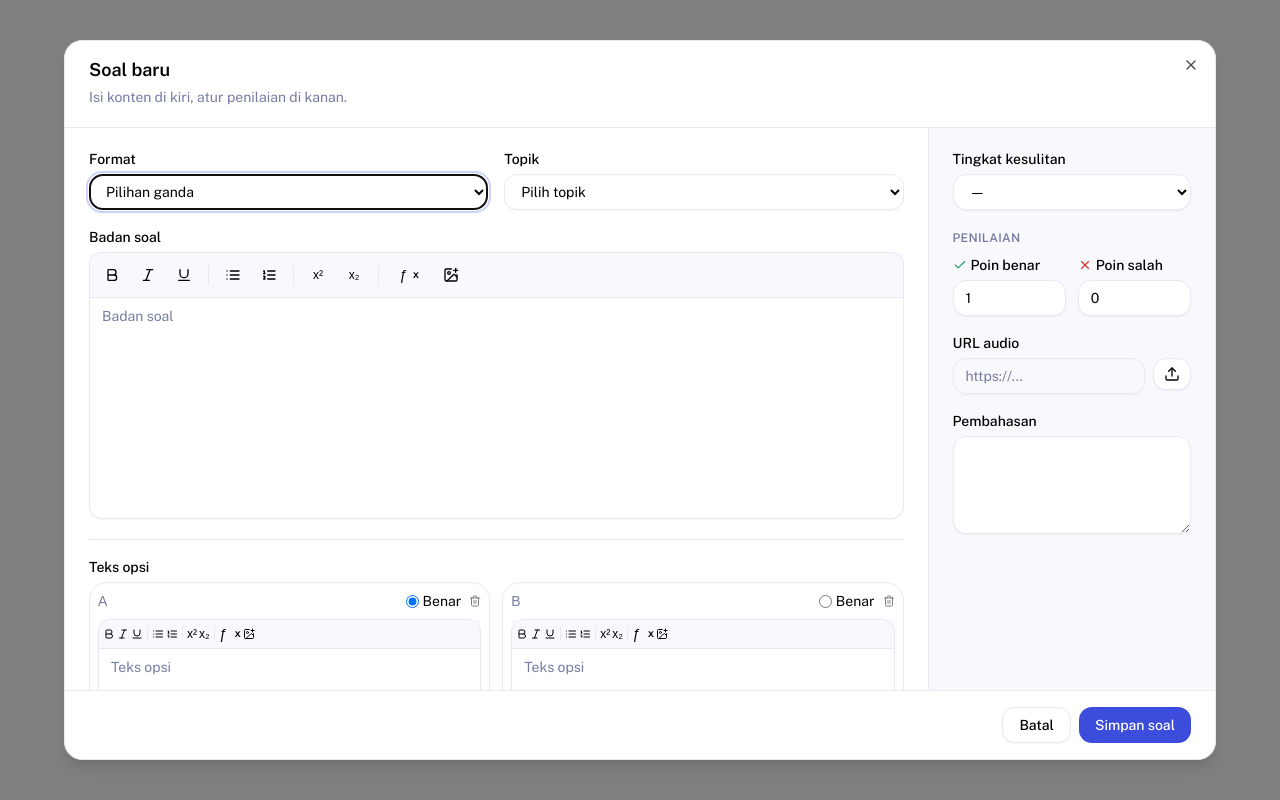
Test case: QuestionEditor › switching format to essay hides option editor and correct_answer input
Check: the 1st radio button labelled "Benar" is shown, box [406,594,419,608]
Select "Esai" in the dropdown labelled "Format" at (289, 192), box [89,174,488,210]
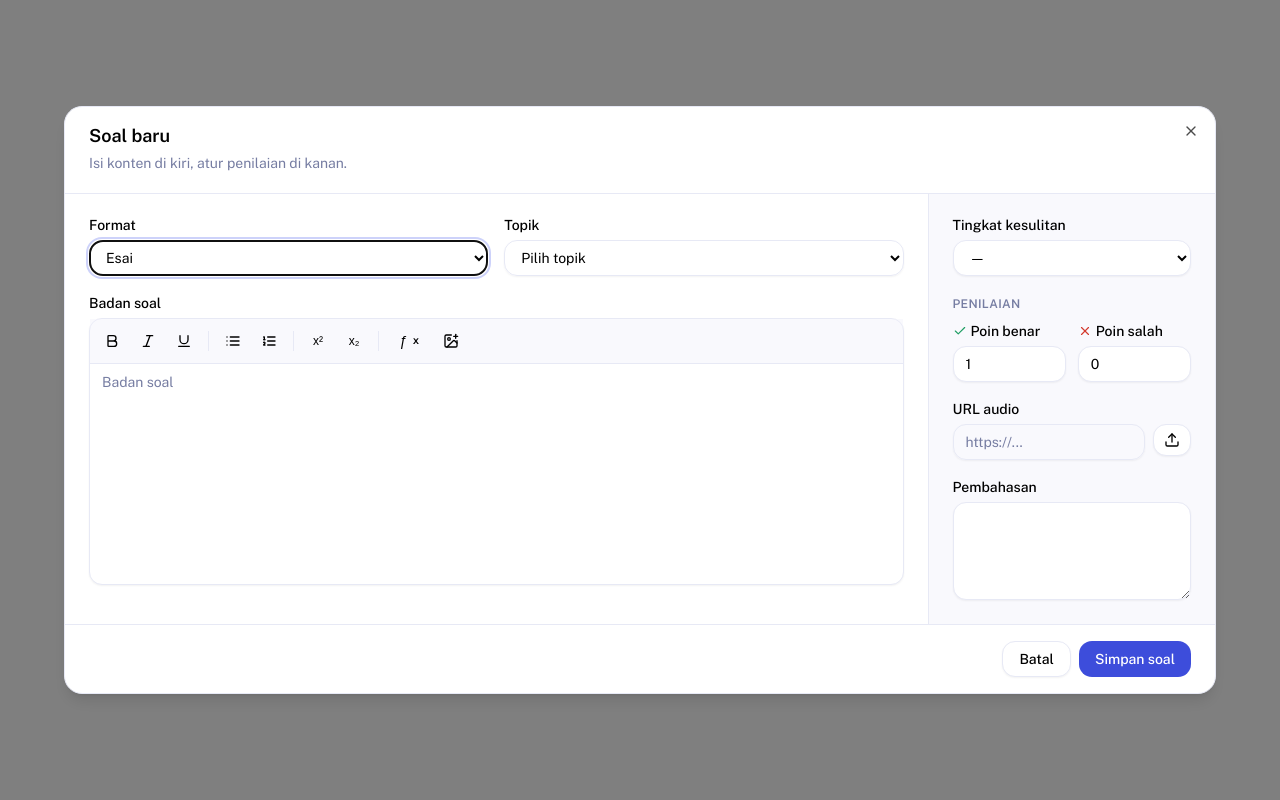
Check: no radio buttons are shown
Check: the radio button labelled "jawaban benar" is gone
